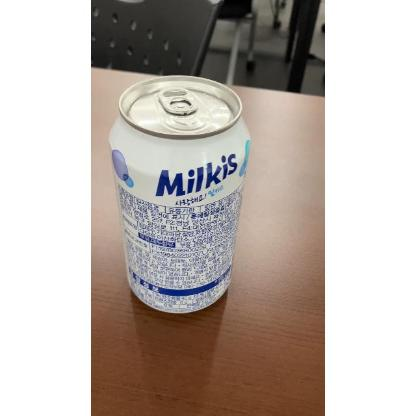Can: (107, 72, 253, 320)
